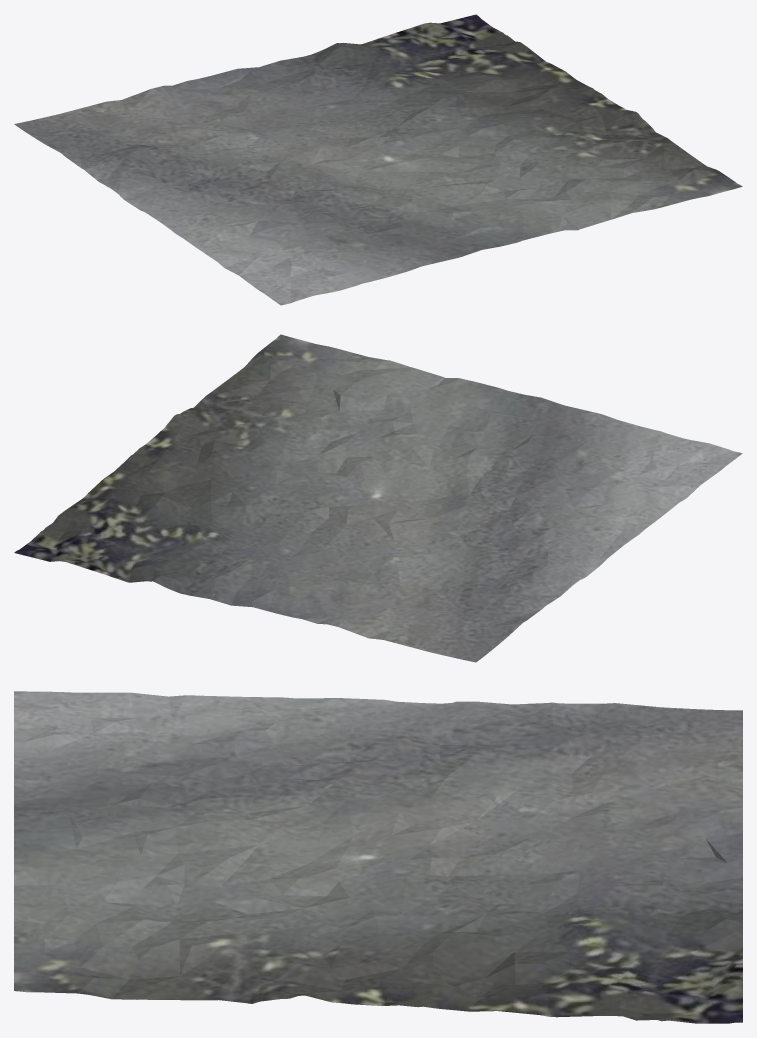
3 renders of one model, top to bottom at view 1: azimuth 30°, elevation 25°; view 2: azimuth 150°, elevation 25°; view 3: azimuth 270°, elevation 25°, orthographic. The views are drawn at different scales.
Bounding box in the file's own units: 2.95 × 0.1625 × 2.95.
Materials: 2 (2 with a texture image).
